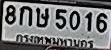letters: (35, 6, 50, 29), (18, 5, 33, 27), (95, 12, 109, 34), (4, 4, 17, 26), (68, 10, 81, 32), (55, 8, 67, 31), (84, 11, 94, 33)
province: (15, 33, 94, 49)
